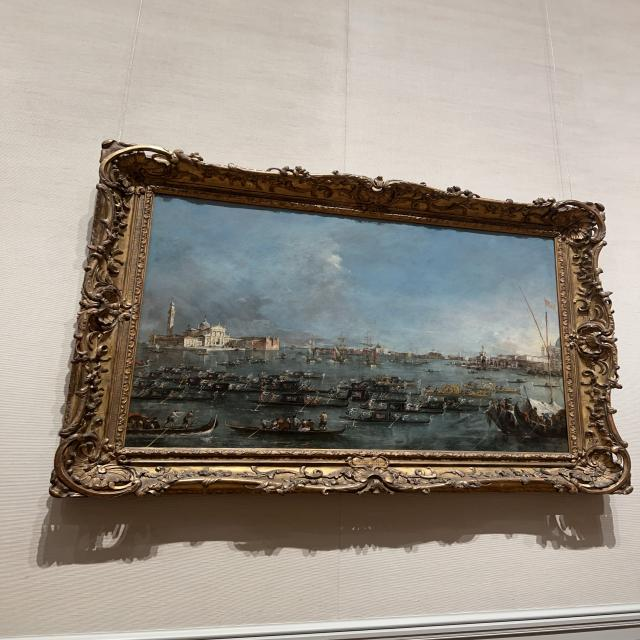ships: (129, 198, 569, 443)
